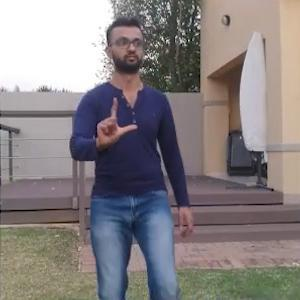land_hand: (90, 91, 141, 153)
